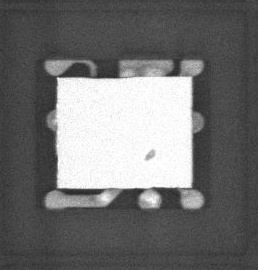DIE_INK: (136, 154, 150, 168)
